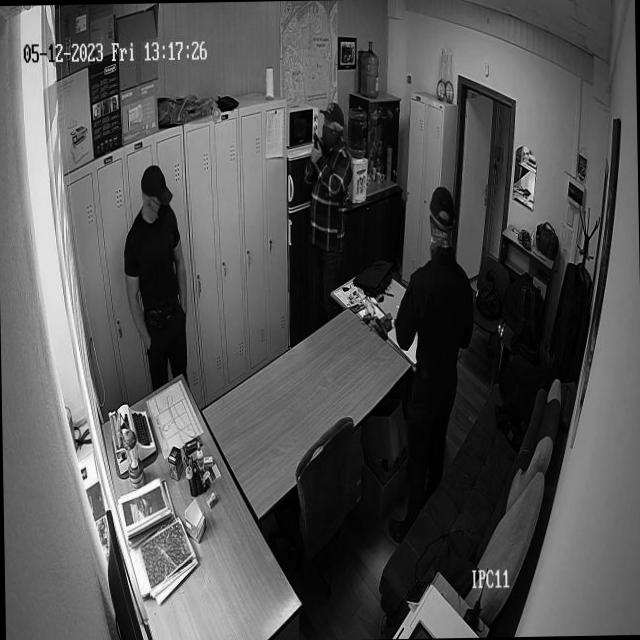gun: (310, 132, 323, 154)
person: (390, 181, 474, 444), (119, 162, 194, 370)
person with a gun: (304, 88, 358, 312)
